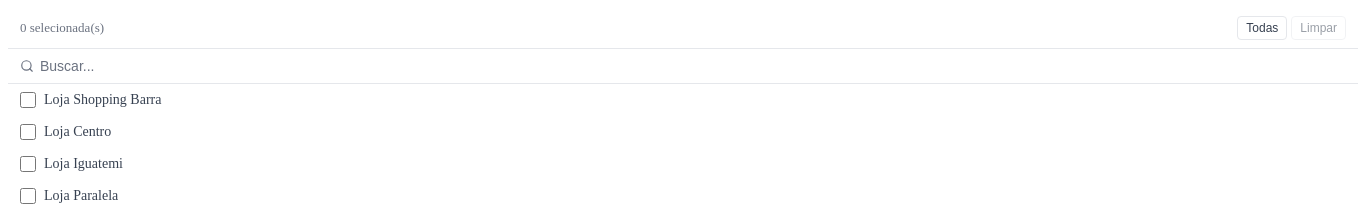
MultiSelectFilter › Busca › RF18: exibe mensagem quando busca sem resultados
This screenshot has width=1366, height=221.
Type "xyz123" into the field with class "multi-select-filter__search-input" at x=692, y=66, box [38,57,1346,75]
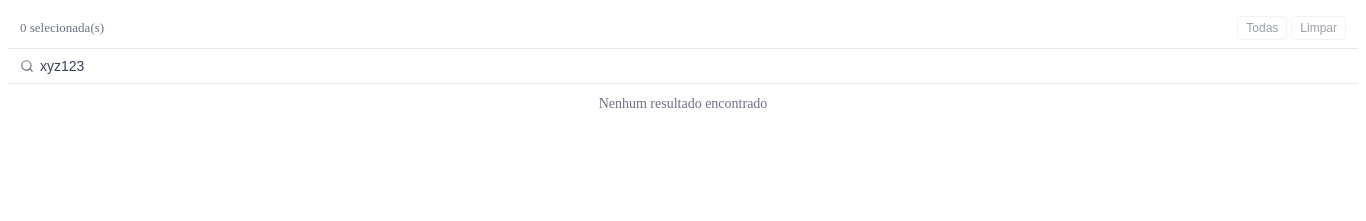
Check: the text "Nenhum resultado encontrado" is shown, box [599,96,767,111]
